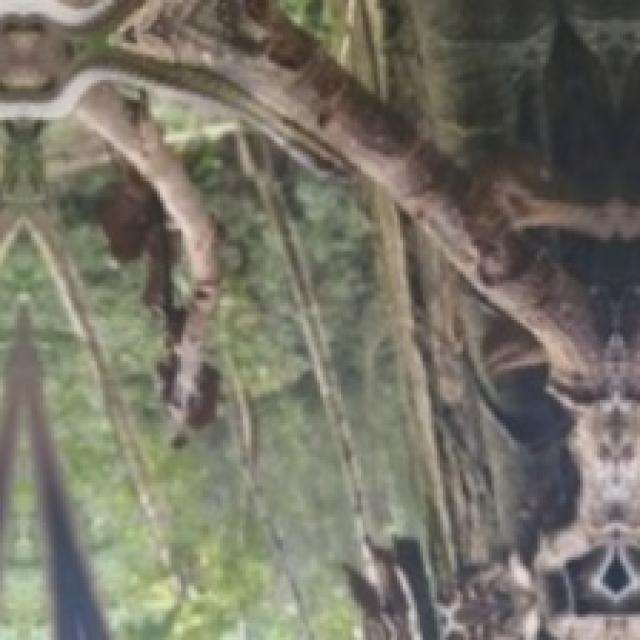paradise tree snake: (0, 0, 637, 637), (9, 231, 151, 543), (149, 174, 220, 454)
